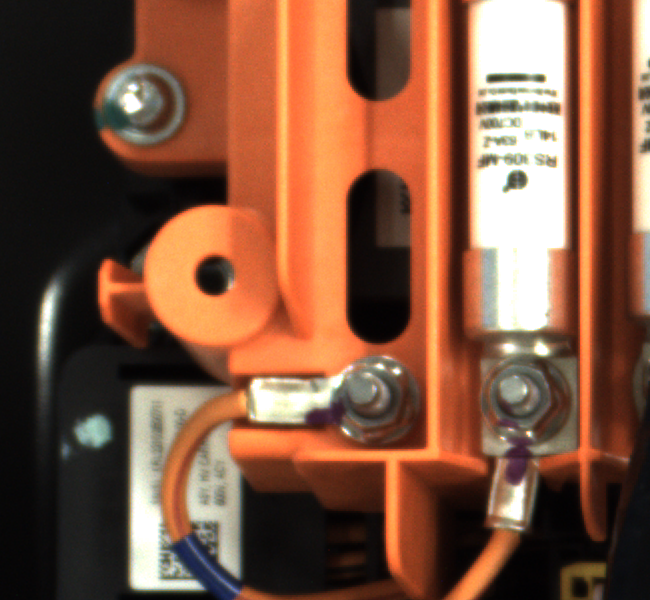screw_m: (91, 58, 209, 151)
screw_s: (460, 352, 587, 467), (313, 341, 416, 446)
